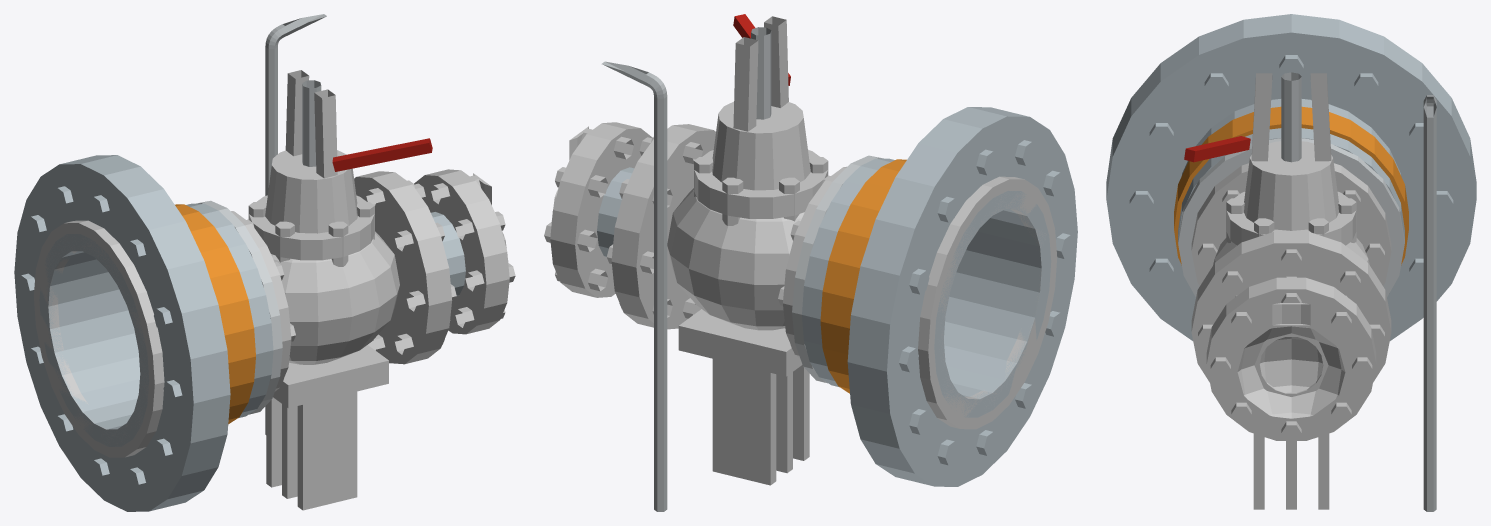
Rendered from cell_60.obj.
The picture shows the model from 3 angles, left to right: view 1: azimuth 30°, elevation 25°; view 2: azimuth 150°, elevation 25°; view 3: azimuth 270°, elevation 25°; orthographic projection. The views are drawn at different scales.
Bounding box in the file's own units: 1 × 1 × 0.8.
